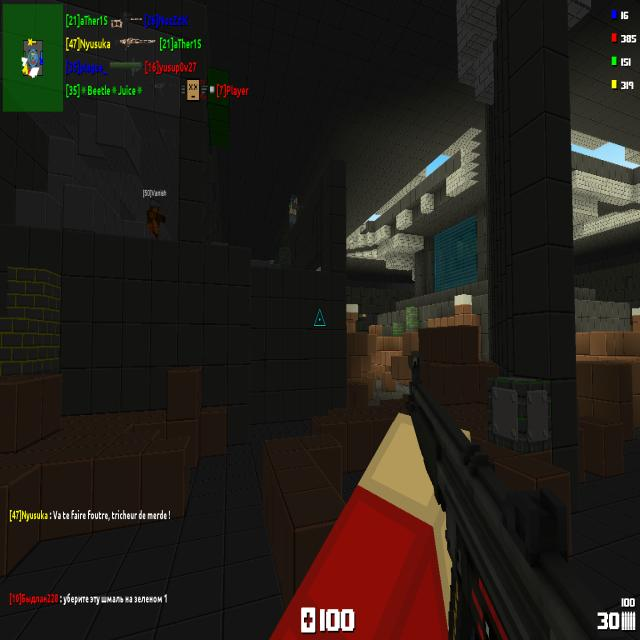enemy: (289, 194, 299, 228), (363, 314, 366, 317)
